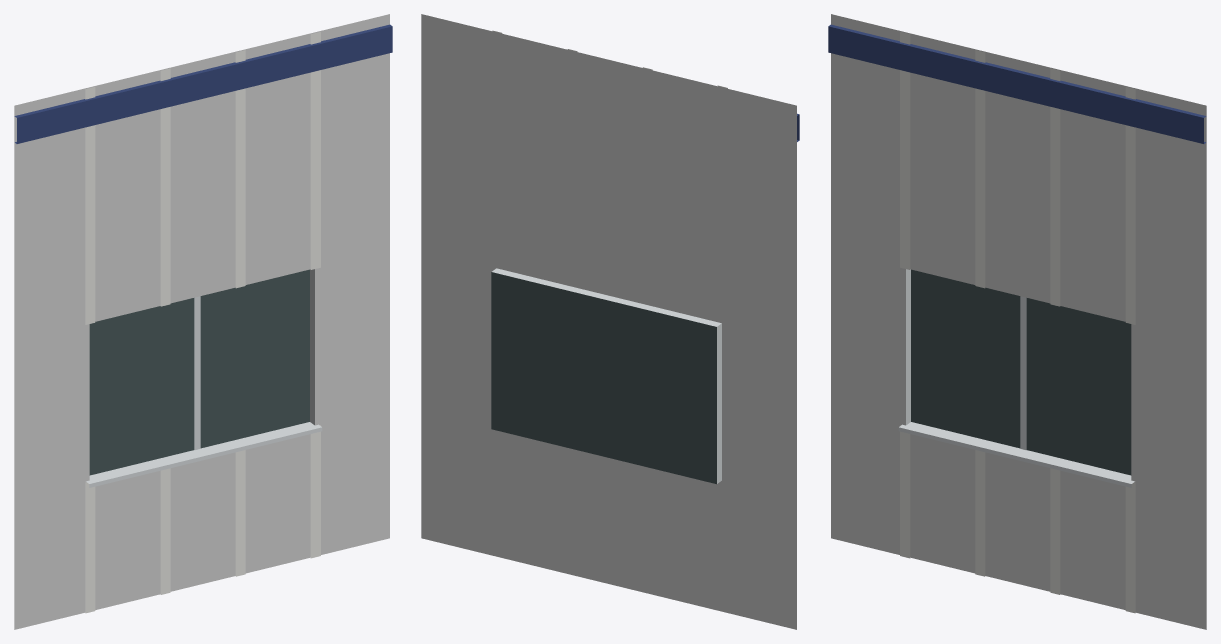
Rendered from mid-w1.fbx.
3 renders of one model, left to right at view 1: azimuth 30°, elevation 25°; view 2: azimuth 150°, elevation 25°; view 3: azimuth 330°, elevation 25°, orthographic.
Parts seen in each view (by area): view 1: a2004/700/mid-w1; view 2: a2004/700/mid-w1; view 3: a2004/700/mid-w1.
Part boxes in pixels (<box>): a2004/700/mid-w1: <box>14,14,392,629</box>; a2004/700/mid-w1: <box>421,14,799,629</box>; a2004/700/mid-w1: <box>828,14,1206,629</box>.
Size of the model in its own units: 3 by 4 by 0.12.
